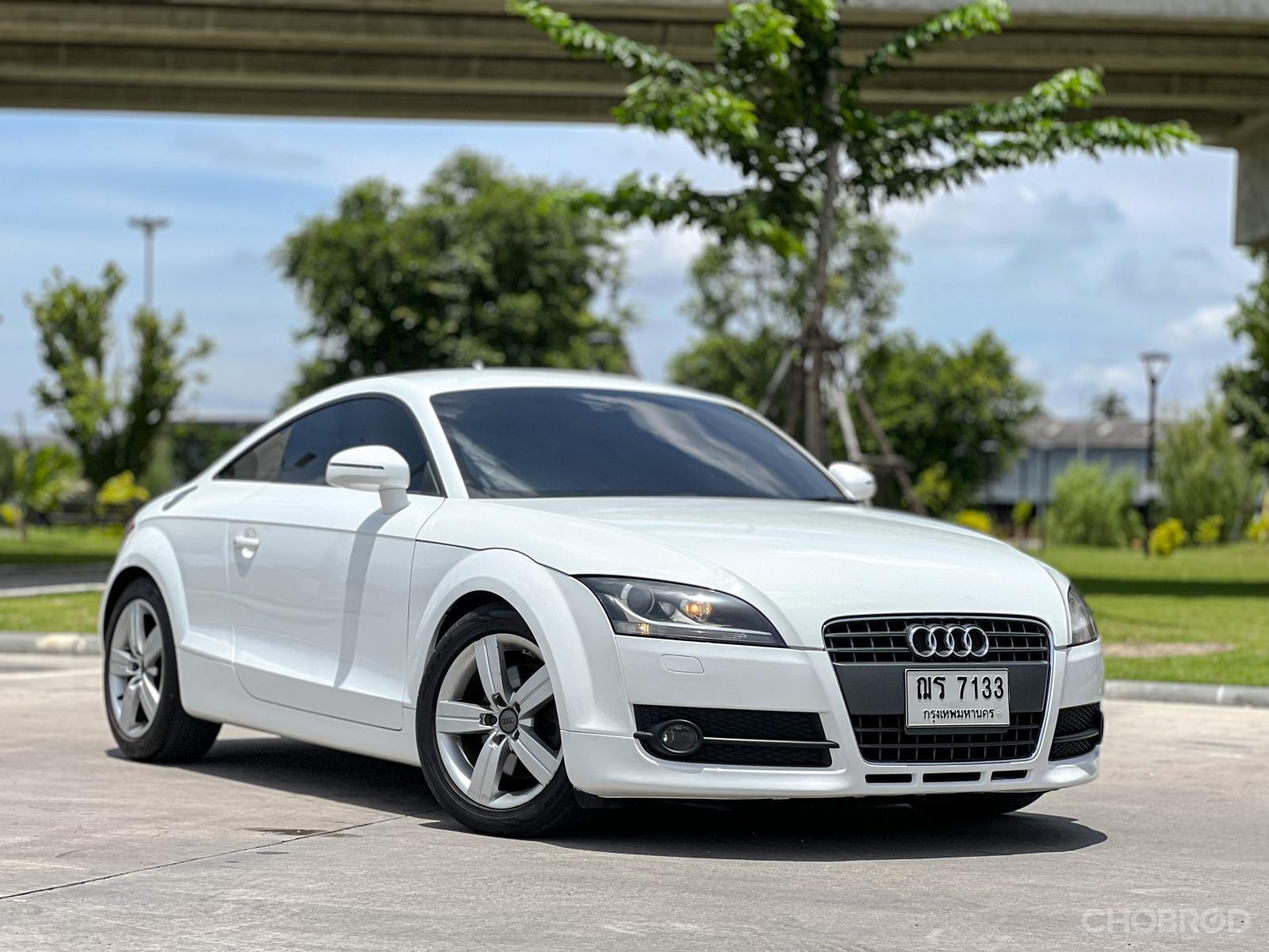license-plate: (904, 666, 1020, 730)
